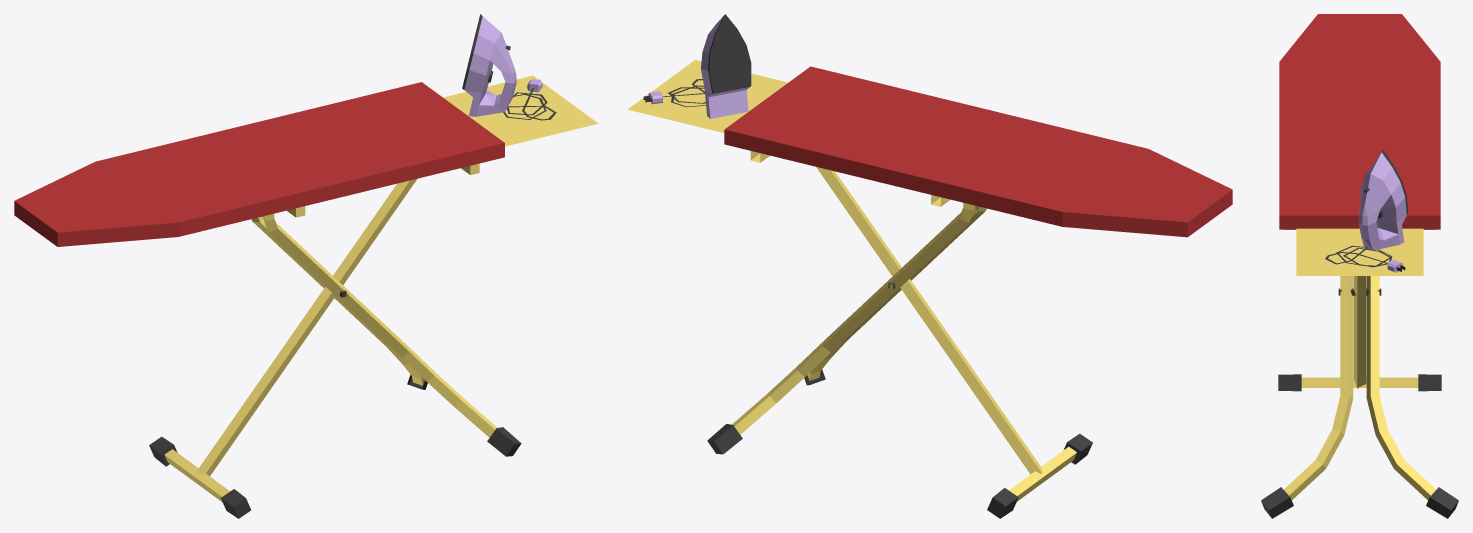
File: Ironing_installation.fbx
The picture shows the model from 3 angles, left to right: view 1: azimuth 30°, elevation 25°; view 2: azimuth 150°, elevation 25°; view 3: azimuth 270°, elevation 25°; orthographic projection. The views are drawn at different scales.
Parts seen in each view (by area): view 1: Ironing_installation; view 2: Ironing_installation; view 3: Ironing_installation.
Boxes of the visible parts, x1,y1,x2,y2 form: Ironing_installation: [14, 14, 598, 518]; Ironing_installation: [627, 14, 1232, 518]; Ironing_installation: [1261, 14, 1458, 518].
Bounding box in the file's own units: 217 × 72.58 × 154.
